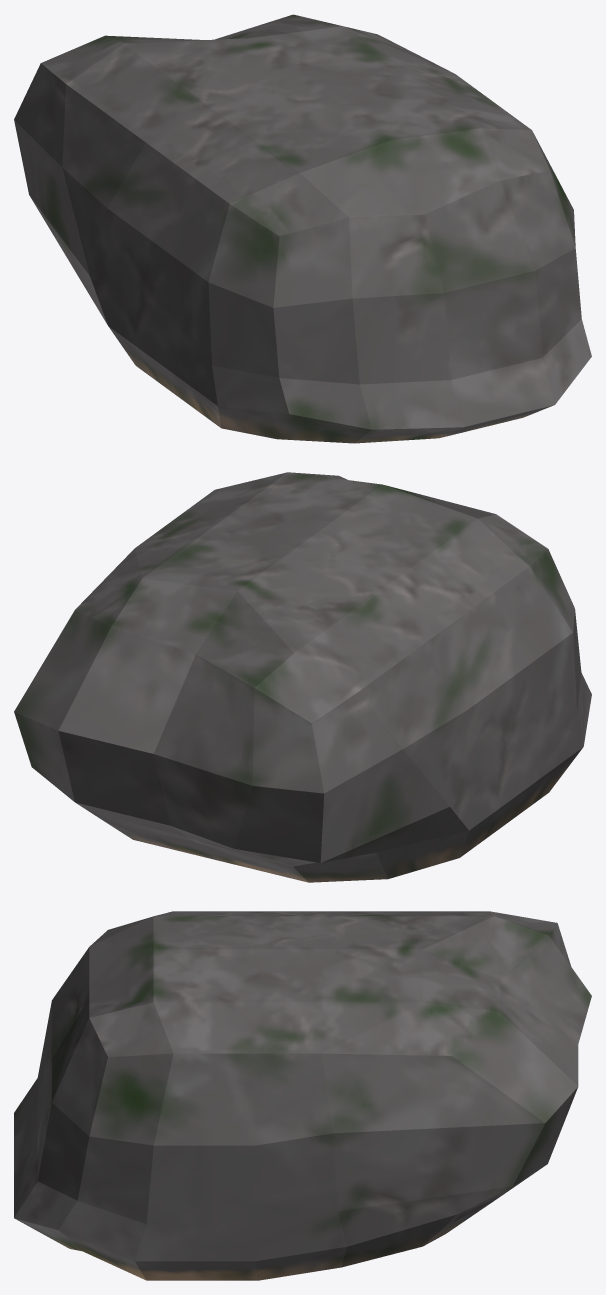
Rendered from MKU_rock_small_fin.fbx.
3 views of the same model, one above another, from view 1: azimuth 30°, elevation 25°; view 2: azimuth 150°, elevation 25°; view 3: azimuth 270°, elevation 25° (orthographic). The views are drawn at different scales.
Visible parts, largest first — view 1: Cube; view 2: Cube; view 3: Cube.
Boxes of the visible parts, bbox=[...] form: Cube: bbox=[14, 14, 591, 443]; Cube: bbox=[14, 472, 591, 882]; Cube: bbox=[14, 911, 591, 1280].
Bounding box in the file's own units: 200 × 143 × 284.
